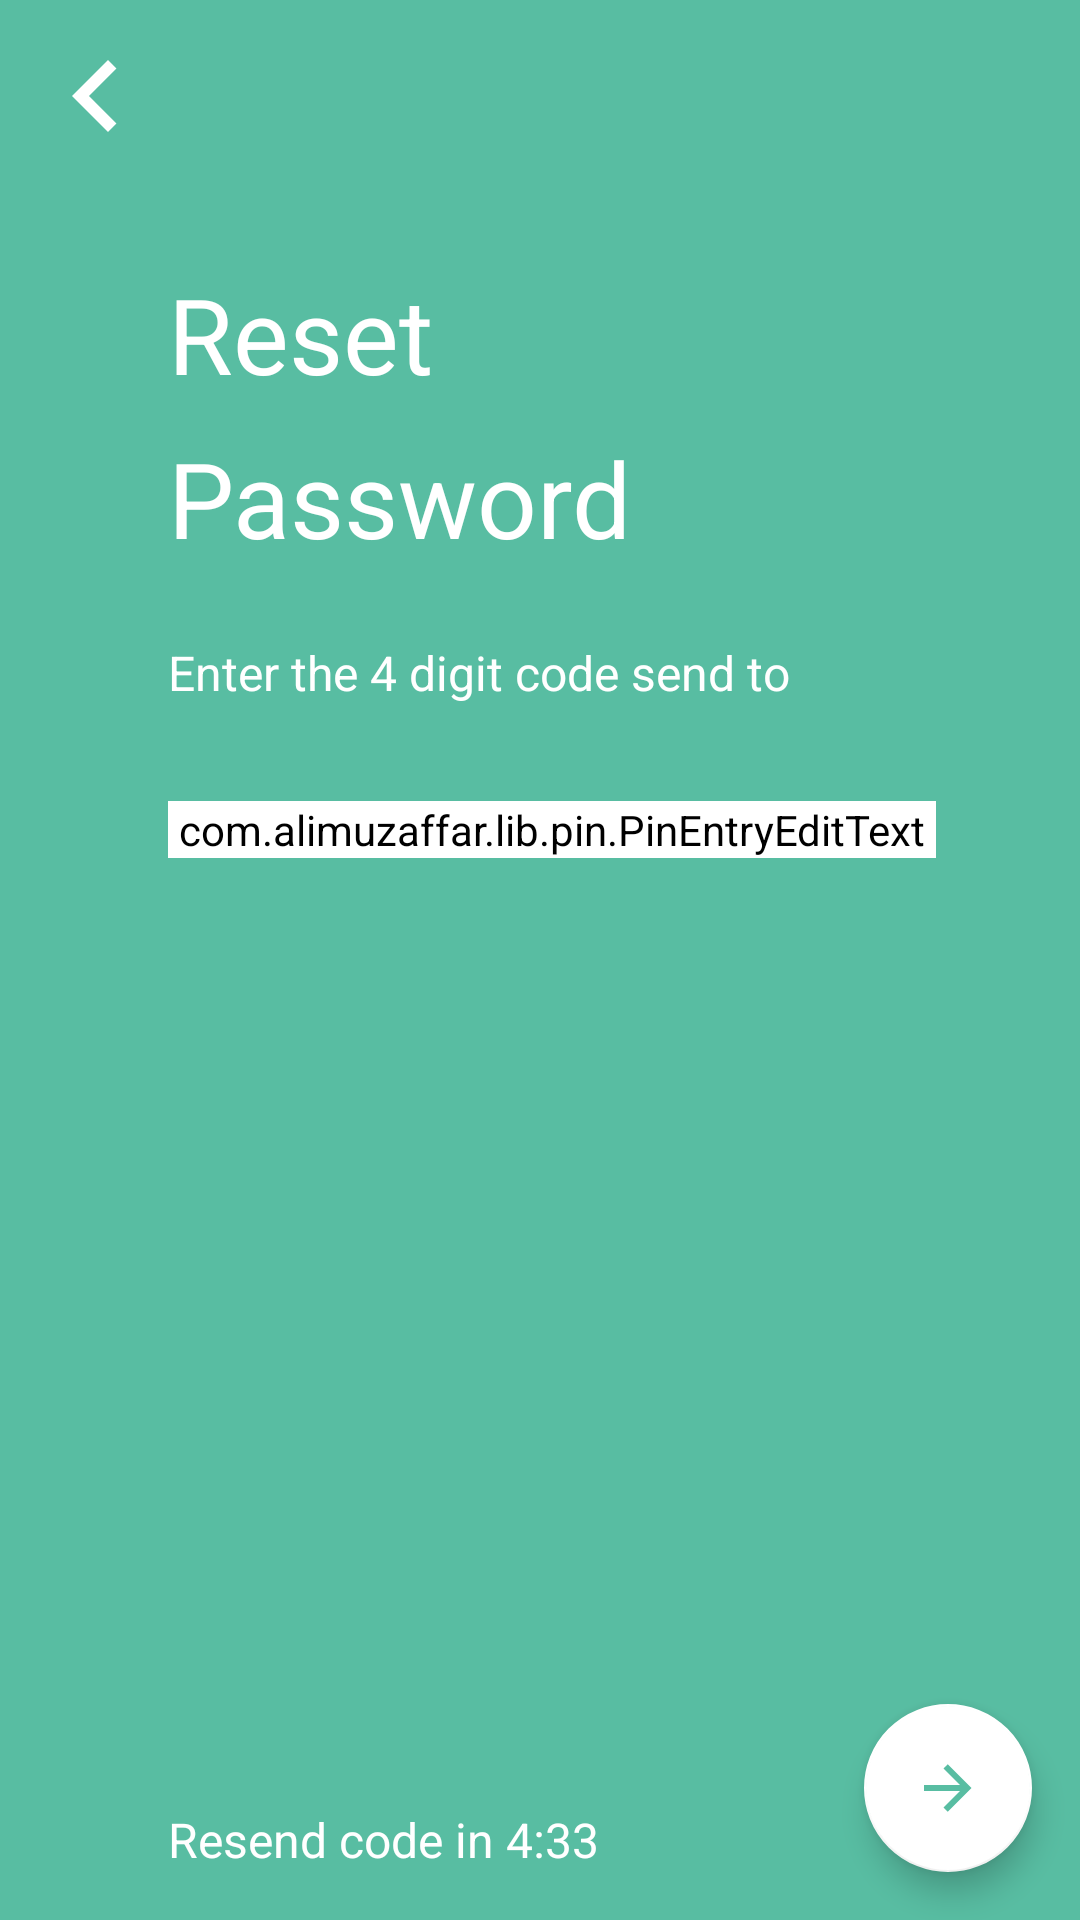

Icons on this 1080px×1920px Android screen, each with the point to tap as (x=x, y=y):
arrow left: (x=94, y=96)
arrow right: (x=948, y=1788)
